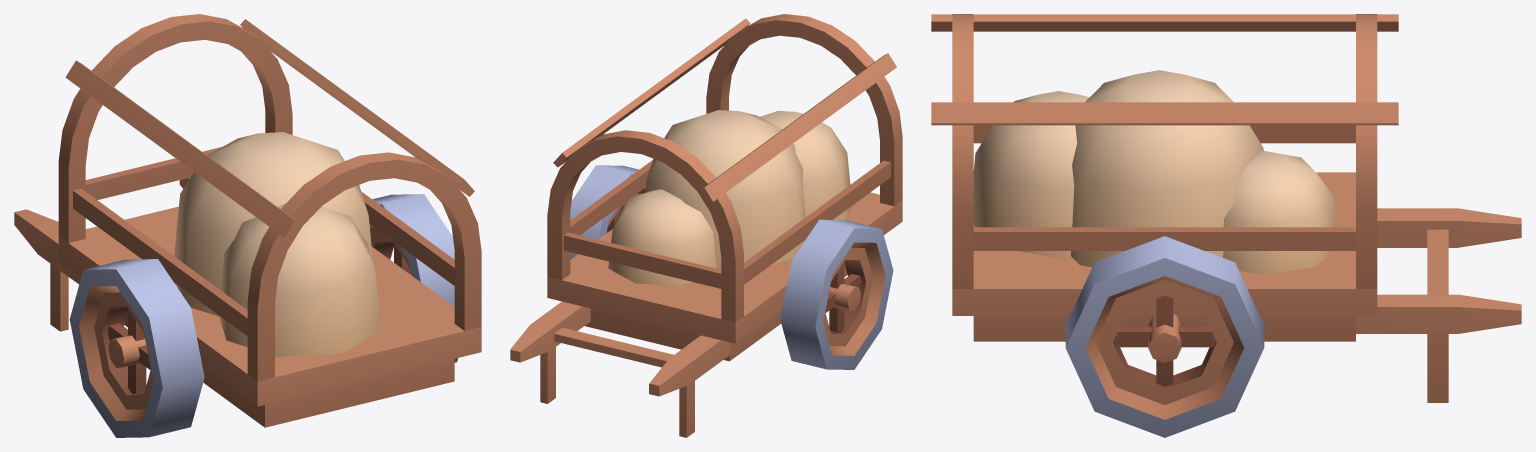
Rendered from cart-high.glb.
3 renders of one model, left to right at view 1: azimuth 30°, elevation 25°; view 2: azimuth 150°, elevation 25°; view 3: azimuth 270°, elevation 25°, orthographic. The views are drawn at different scales.
Parts seen in each view (by area): view 1: cart-high, Group (×2); view 2: cart-high, Group (×2); view 3: cart-high, Group.
Boxes of the visible parts, <box> form: cart-high: <box>14,14,481,427</box>; Group (×2): <box>69,194,457,437</box>; cart-high: <box>510,14,902,437</box>; Group (×2): <box>570,165,893,369</box>; cart-high: <box>931,14,1521,402</box>; Group: <box>1065,236,1264,437</box>.
Bounding box in the file's own units: 0.893 × 0.8605 × 1.39.
Materials: 1 (1 with a texture image).
